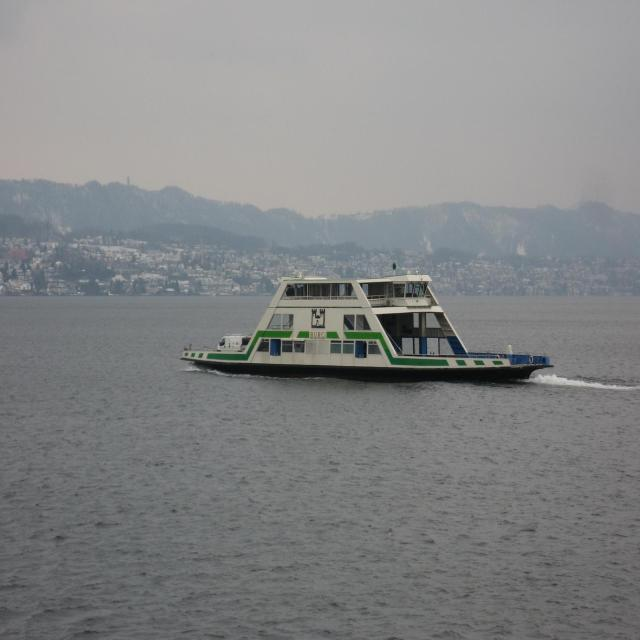passenger ship: (180, 267, 540, 390)
